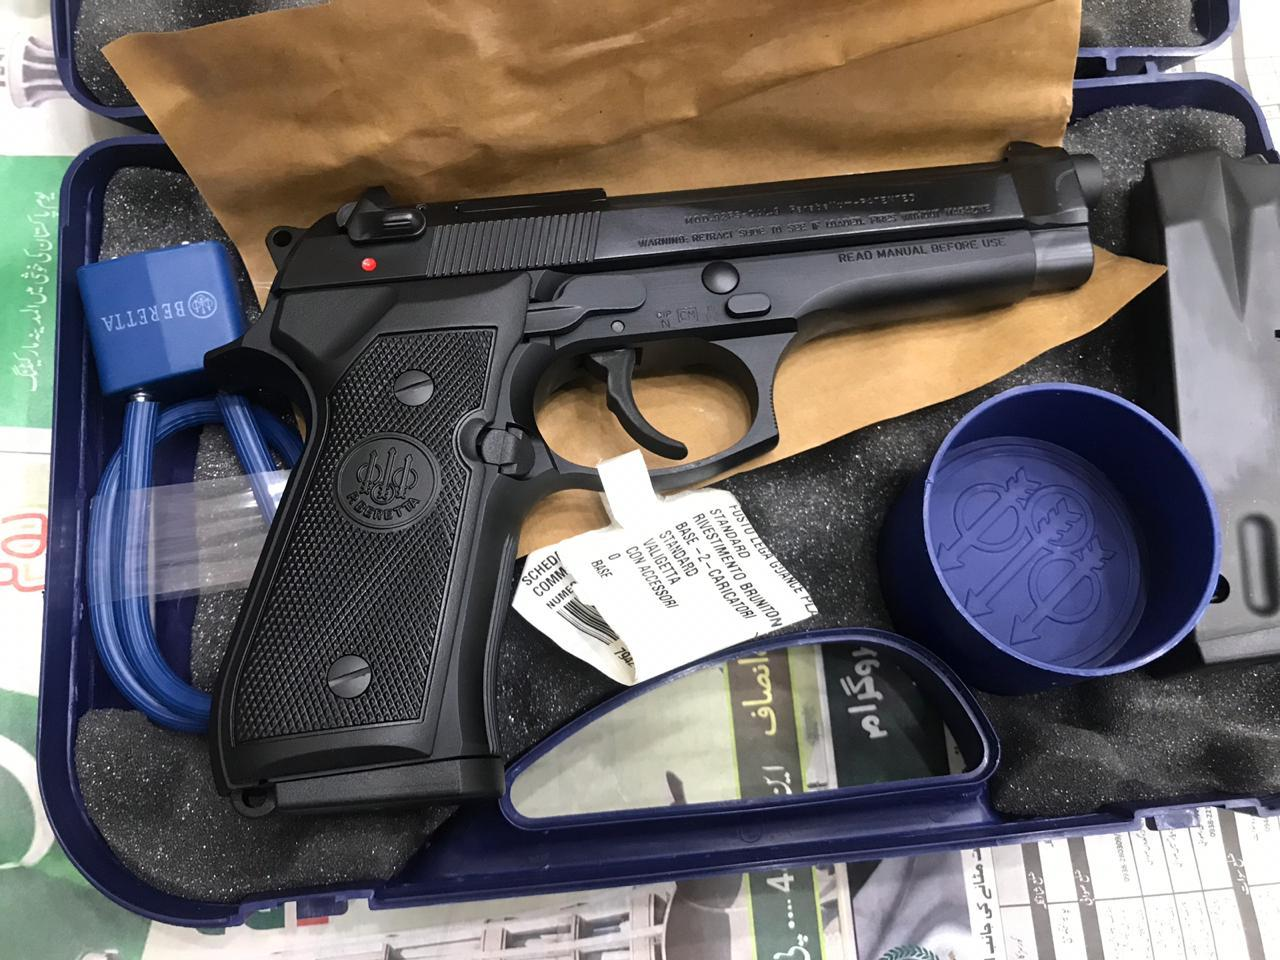weapon: (204, 140, 1108, 820)
